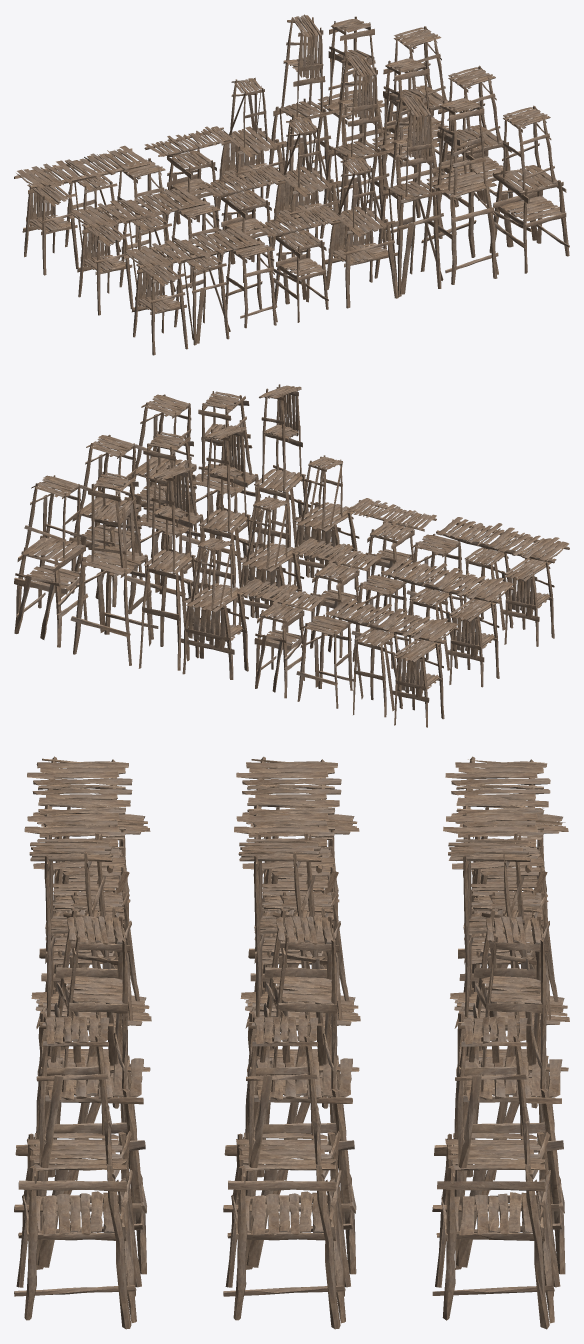
The model's file is Weak Tower Structures A.fbx.
The picture shows the model from 3 angles, top to bottom: view 1: azimuth 30°, elevation 25°; view 2: azimuth 150°, elevation 25°; view 3: azimuth 270°, elevation 25°; orthographic projection. The views are drawn at different scales.
Parts seen in each view (by area): view 1: Weak_Tower_Structure_1B4, Weak_Tower_Structure_1B3, Weak_Tower_Structure_1B2, Weak_Tower_Structure_1B1, Weak_Tower_Structure_1B2.001, Weak_Tower_Structure_1B2.002, Weak_Tower_Structure_1B1.002, Weak_Tower_Structure_1B1.001, Weak_Tower_Structure_1B3.001, Weak_Tower_Structure_1B3.002, Weak_Tower_Structure_1B4.001, Weak_Tower_Structure_1A4 (+18 smaller); view 2: Weak_Tower_Structure_1B3.002, Weak_Tower_Structure_1B4.002, Weak_Tower_Structure_1B2.002, Weak_Tower_Structure_1B1.002, Weak_Tower_Structure_1B2, Weak_Tower_Structure_1B2.001, Weak_Tower_Structure_1B3.001, Weak_Tower_Structure_1B1.001, Weak_Tower_Structure_1B1, Weak_Tower_Structure_1B3, Weak_Tower_Structure_1B4.001, Weak_Tower_Structure_1B4 (+18 smaller); view 3: Weak_Tower_Structure_1B4, Weak_Tower_Structure_1B4.001, Weak_Tower_Structure_1B4.002, Weak_Tower_Structure_1B3.001, Weak_Tower_Structure_1B3, Weak_Tower_Structure_1B3.002, Weak_Bridge_1A2, Weak_Bridge_1A2.001, Weak_Bridge_1A2.002, Weak_Tower_Structure_1B2.001, Weak_Tower_Structure_1B2, Weak_Tower_Structure_1B2.002 (+15 smaller).
Part boxes in pixels (left/top/right/bottom): Weak_Tower_Structure_1B4: left=489, top=105, right=569, bottom=273; Weak_Tower_Structure_1B3: left=420, top=96, right=498, bottom=284; Weak_Tower_Structure_1B2: left=374, top=94, right=443, bottom=296; Weak_Tower_Structure_1B1: left=325, top=157, right=398, bottom=308; Weak_Tower_Structure_1B2.001: left=320, top=54, right=387, bottom=248; Weak_Tower_Structure_1B2.002: left=265, top=14, right=332, bottom=207; Weak_Tower_Structure_1B1.002: left=216, top=77, right=285, bottom=217; Weak_Tower_Structure_1B1.001: left=270, top=117, right=340, bottom=257; Weak_Tower_Structure_1B3.001: left=367, top=56, right=443, bottom=244; Weak_Tower_Structure_1B3.002: left=312, top=16, right=389, bottom=204; Weak_Tower_Structure_1B4.001: left=438, top=65, right=514, bottom=214; Weak_Tower_Structure_1A4: left=273, top=229, right=328, bottom=322; Weak_Tower_Structure_1B3.002: left=70, top=472, right=158, bottom=665; Weak_Tower_Structure_1B4.002: left=14, top=475, right=88, bottom=647; Weak_Tower_Structure_1B2.002: left=138, top=465, right=200, bottom=670; Weak_Tower_Structure_1B1.002: left=181, top=536, right=248, bottom=679; Weak_Tower_Structure_1B2: left=252, top=384, right=310, bottom=584; Weak_Tower_Structure_1B2.001: left=197, top=424, right=255, bottom=625; Weak_Tower_Structure_1B3.001: left=127, top=431, right=210, bottom=614; Weak_Tower_Structure_1B1.001: left=236, top=495, right=304, bottom=633; Weak_Tower_Structure_1B1: left=291, top=455, right=359, bottom=592; Weak_Tower_Structure_1B3: left=182, top=391, right=265, bottom=582; Weak_Tower_Structure_1B4.001: left=69, top=434, right=142, bottom=607; Weak_Tower_Structure_1B4: left=124, top=394, right=197, bottom=559; Weak_Tower_Structure_1B4: left=14, top=1014, right=145, bottom=1329; Weak_Tower_Structure_1B4.001: left=223, top=1014, right=354, bottom=1329; Weak_Tower_Structure_1B4.002: left=432, top=1014, right=563, bottom=1329; Weak_Tower_Structure_1B3.001: left=242, top=909, right=359, bottom=1274; Weak_Tower_Structure_1B3: left=33, top=909, right=150, bottom=1274; Weak_Tower_Structure_1B3.002: left=451, top=909, right=568, bottom=1274; Weak_Bridge_1A2: left=24, top=756, right=132, bottom=873; Weak_Bridge_1A2.001: left=234, top=756, right=341, bottom=876; Weak_Bridge_1A2.002: left=443, top=756, right=550, bottom=876; Weak_Tower_Structure_1B2.001: left=238, top=832, right=338, bottom=1195; Weak_Tower_Structure_1B2: left=29, top=832, right=129, bottom=1195; Weak_Tower_Structure_1B2.002: left=448, top=832, right=548, bottom=1196.
Size of the model in its own units: 8966 by 3836 by 5316.
